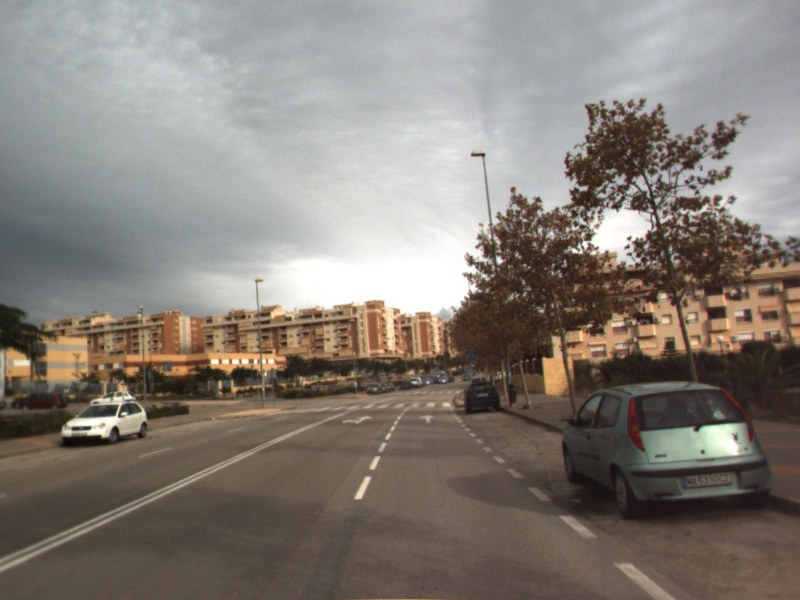STRAIGHT: (416, 412, 438, 425)
STRAIGHT_LEFT: (340, 413, 375, 426)
